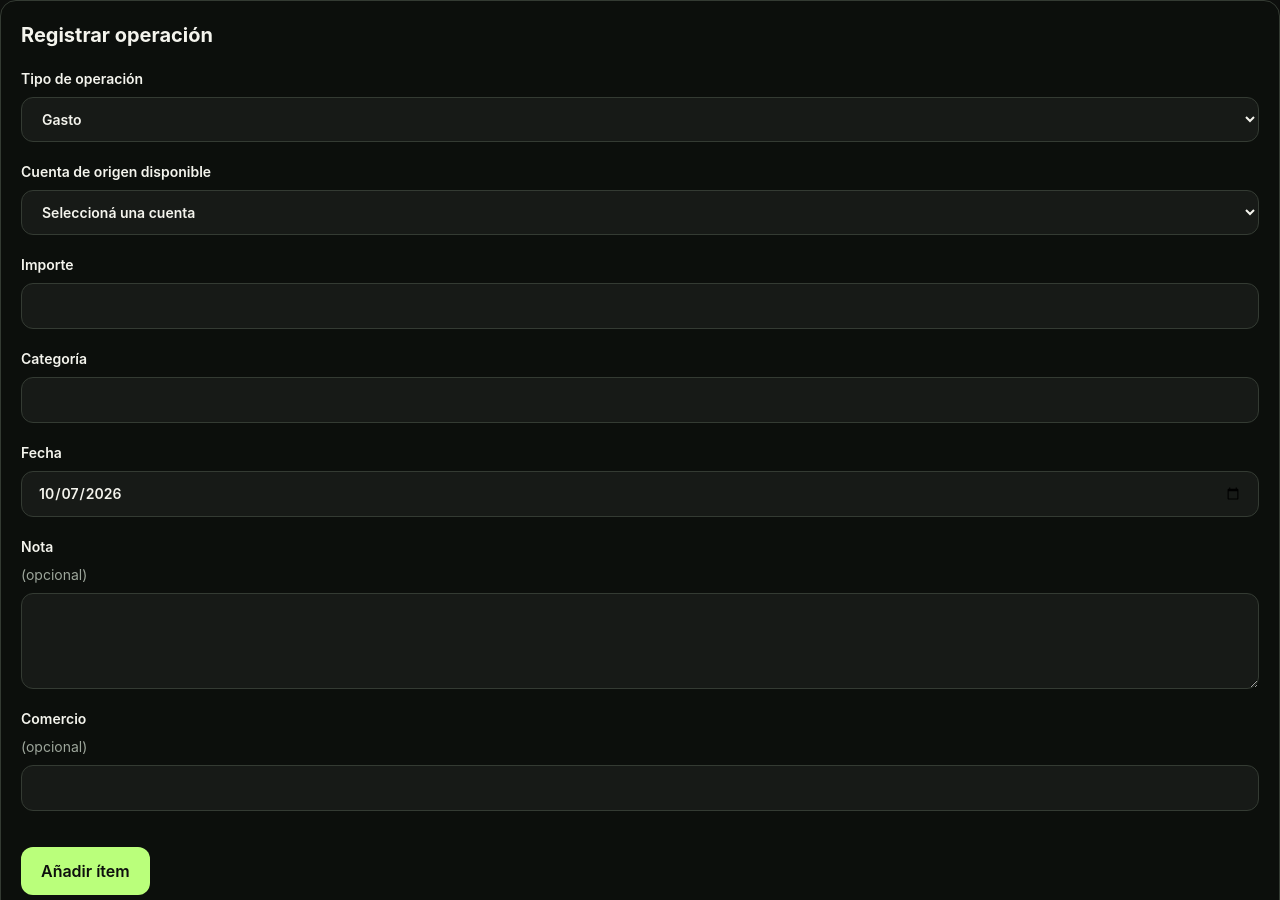
Scenario: OperationForm › offers only valid account kinds and all operation modes
Expected: the dropdown labelled "Cuenta de origen disponible" shows "Seleccioná una cuenta", [21,190,1259,235]
Step 1. Select "Ingreso" in the dropdown labelled "Tipo de operación" → [640, 120], box [21,97,1259,142]
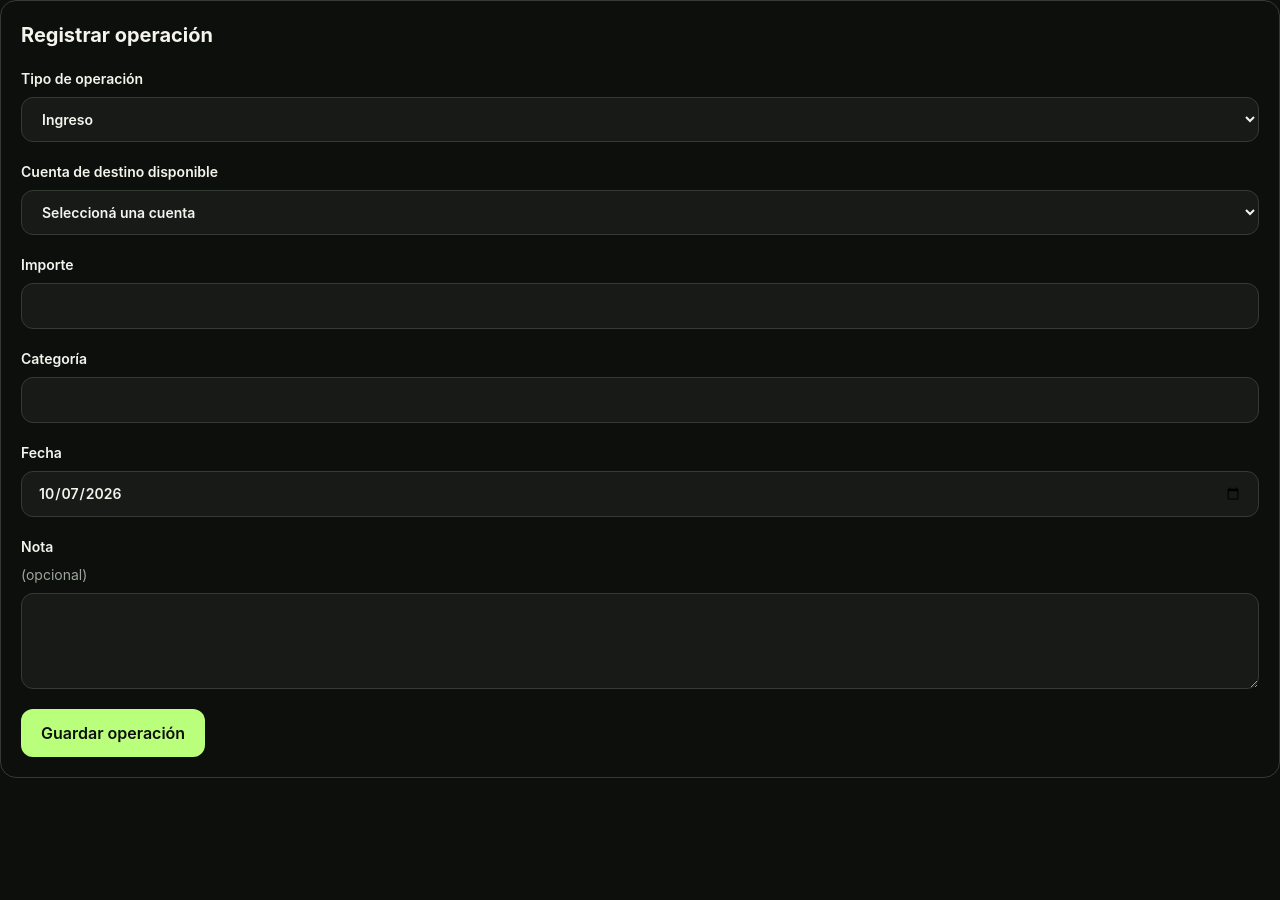
Expected: the dropdown labelled "Cuenta de destino disponible" is shown, [21,190,1259,235]
Expected: the label labelled "Cuenta de origen disponible" is gone
